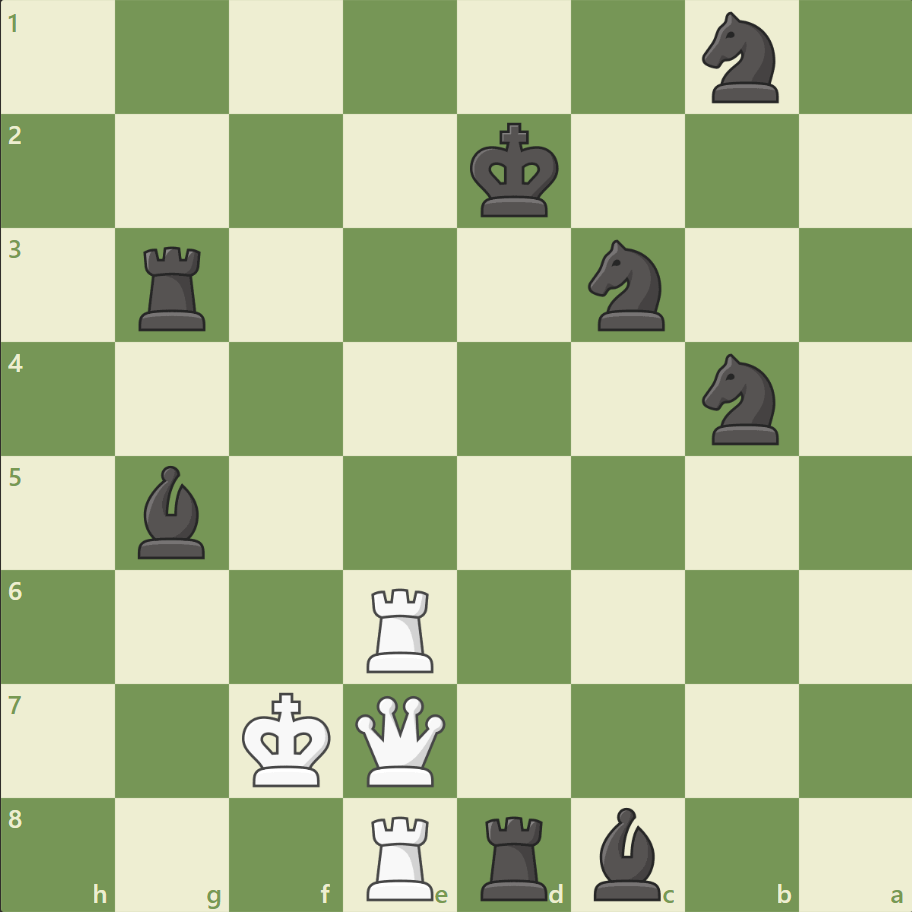K: (238, 685, 338, 793)
Q: (351, 690, 450, 789)
R: (360, 806, 442, 904), (360, 579, 442, 676)
b: (585, 801, 669, 904), (131, 460, 215, 563)
k: (465, 117, 565, 225)
n: (579, 234, 676, 337), (692, 7, 789, 110), (692, 348, 789, 450)
r: (473, 806, 556, 904), (133, 239, 215, 336)
